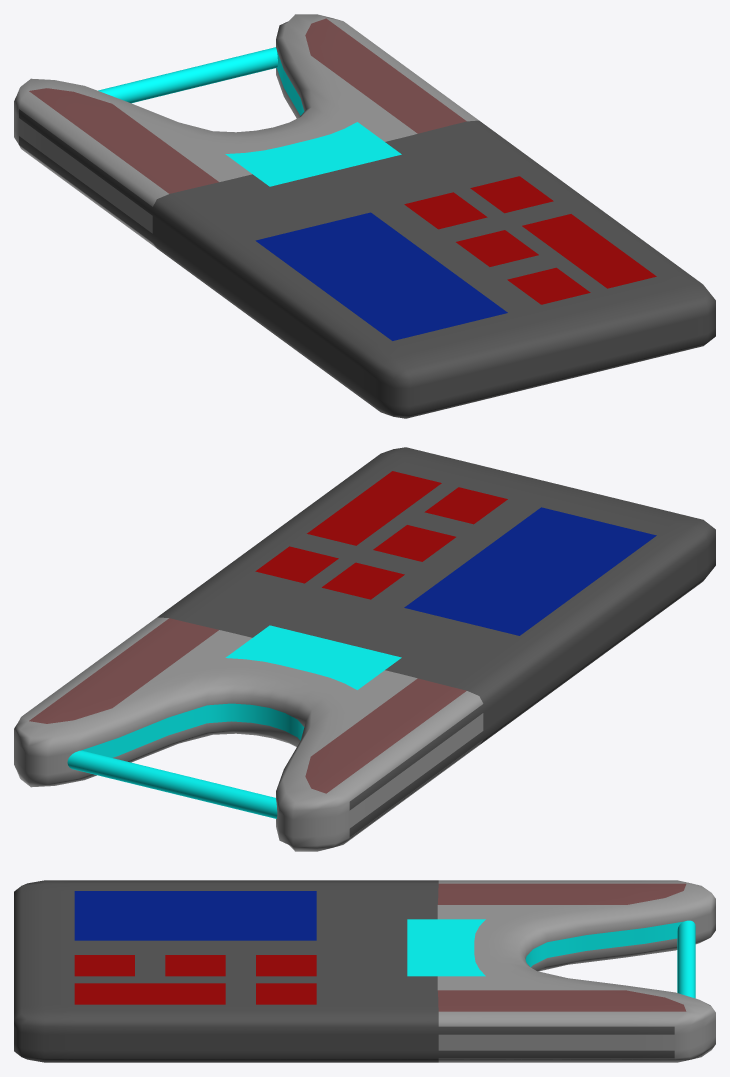
Rendered from Scanner.fbx.
The picture shows the model from 3 angles, top to bottom: view 1: azimuth 30°, elevation 25°; view 2: azimuth 150°, elevation 25°; view 3: azimuth 270°, elevation 25°; orthographic projection. The views are drawn at different scales.
Parts seen in each view (by area): view 1: Scanner, pCylinder1; view 2: Scanner, pCylinder1; view 3: Scanner, pCylinder1.
Boxes of the visible parts, x1,y1,x2,y2 form: Scanner: (14,14,715,418); pCylinder1: (98,47,277,103); Scanner: (14,447,715,851); pCylinder1: (67,750,277,818); Scanner: (14,880,715,1062); pCylinder1: (677,920,695,998).
Size of the model in its own units: 0.5561 by 0.0865 by 1.16.
